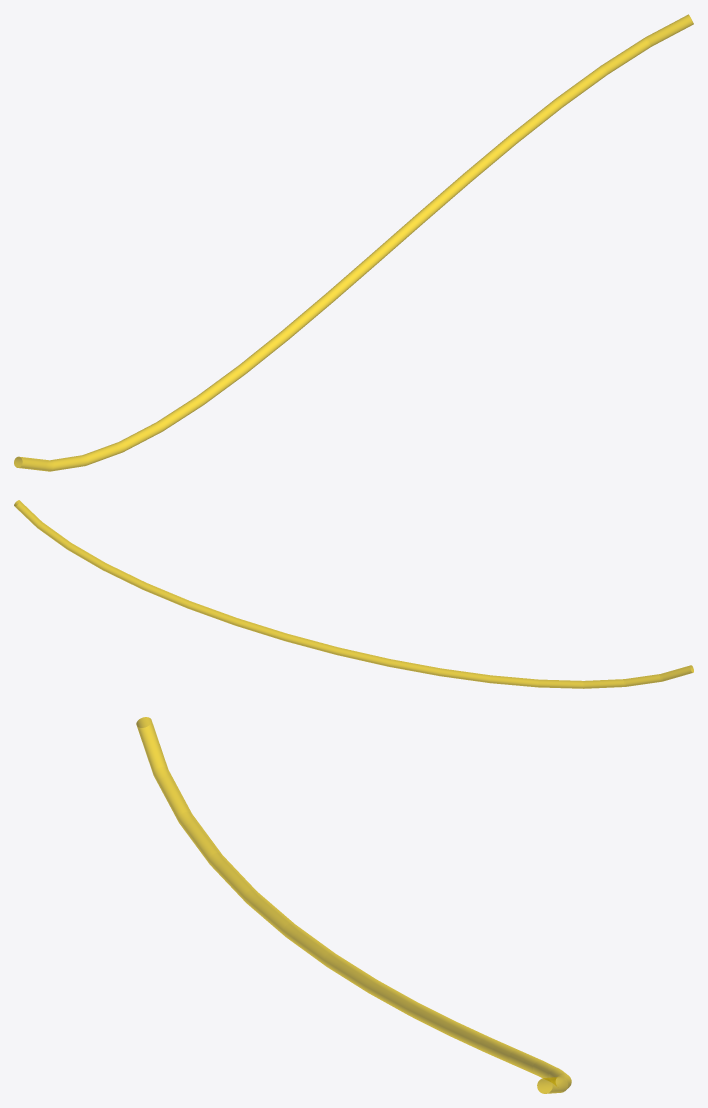
Rendered from Event_17758602_track_96.fbx.
The picture shows the model from 3 angles, top to bottom: view 1: azimuth 30°, elevation 25°; view 2: azimuth 150°, elevation 25°; view 3: azimuth 270°, elevation 25°; orthographic projection. The views are drawn at different scales.
Parts seen in each view (by area): view 1: Model; view 2: Model; view 3: Model.
Part boxes in pixels (<box>): Model: <box>14,14,693,471</box>; Model: <box>14,500,693,688</box>; Model: <box>136,717,571,1093</box>.
Size of the model in its own units: 3.34 by 0.7249 by 1.09.
